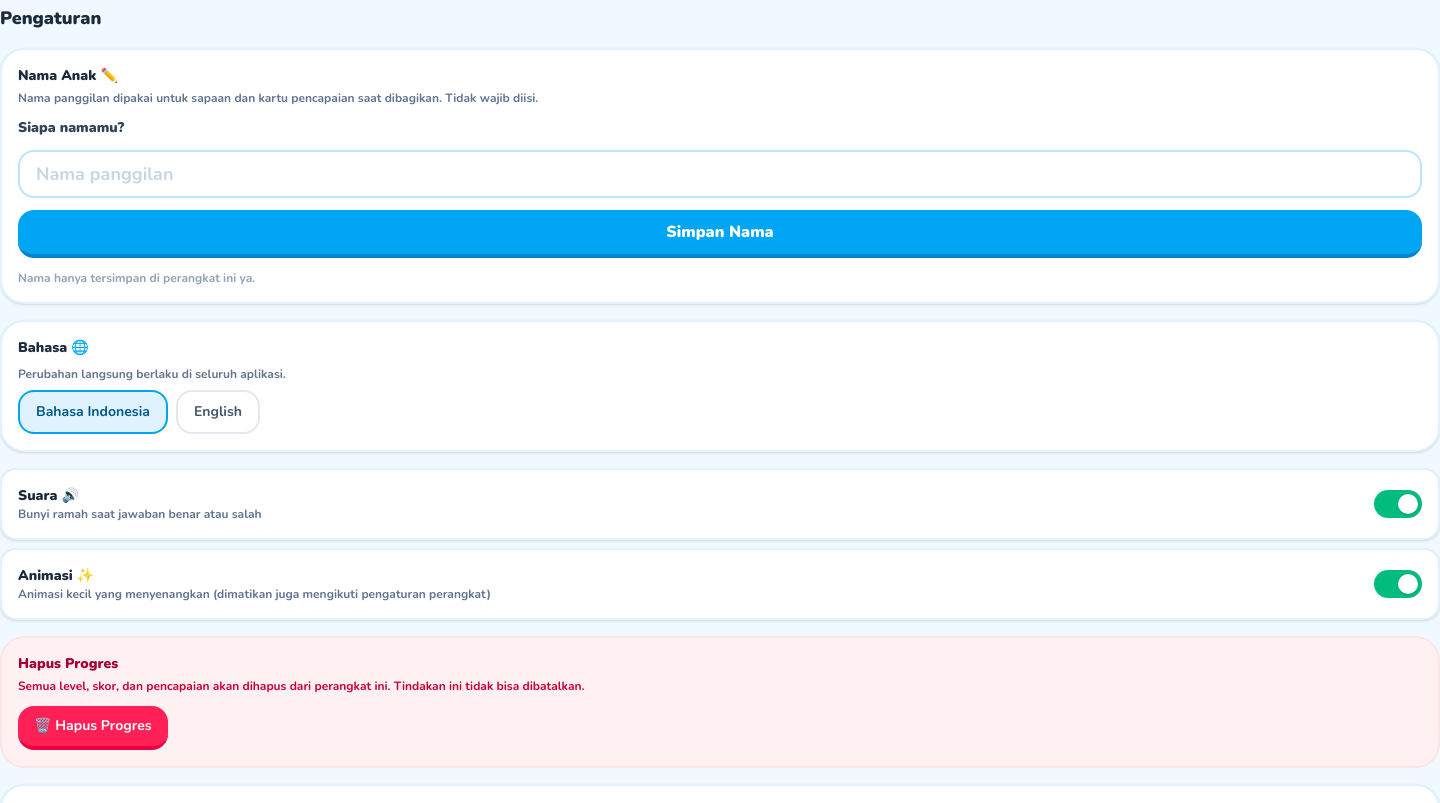
Test: SettingsScreen › menyimpan nama anak lewat form pengaturan
The image size is (1440, 803).
In the field named "Nama panggilan anak": {"x": 720, "y": 174} [18, 150, 1422, 198], type "Sari"
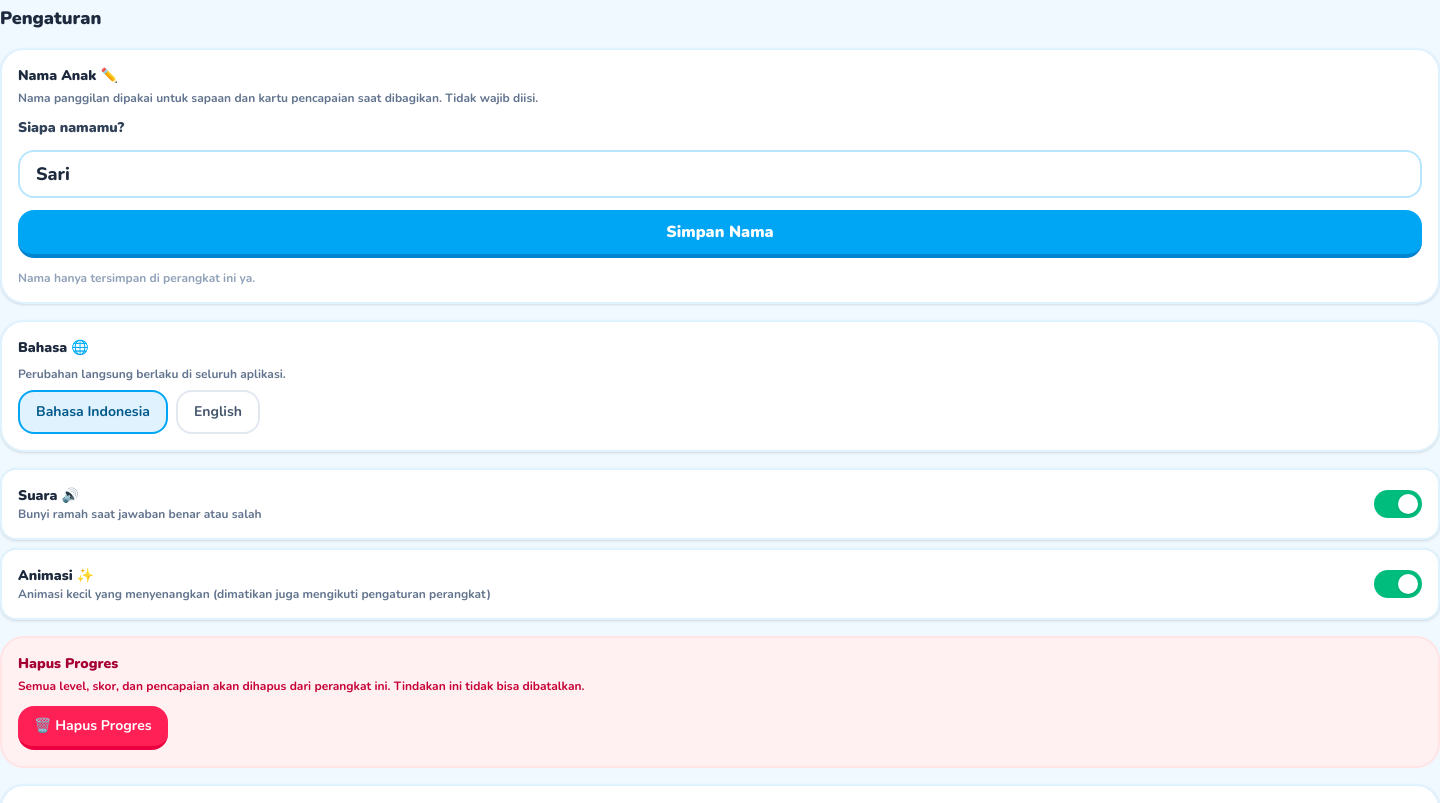
Click the button "Simpan Nama": {"x": 720, "y": 234} [18, 210, 1422, 258]
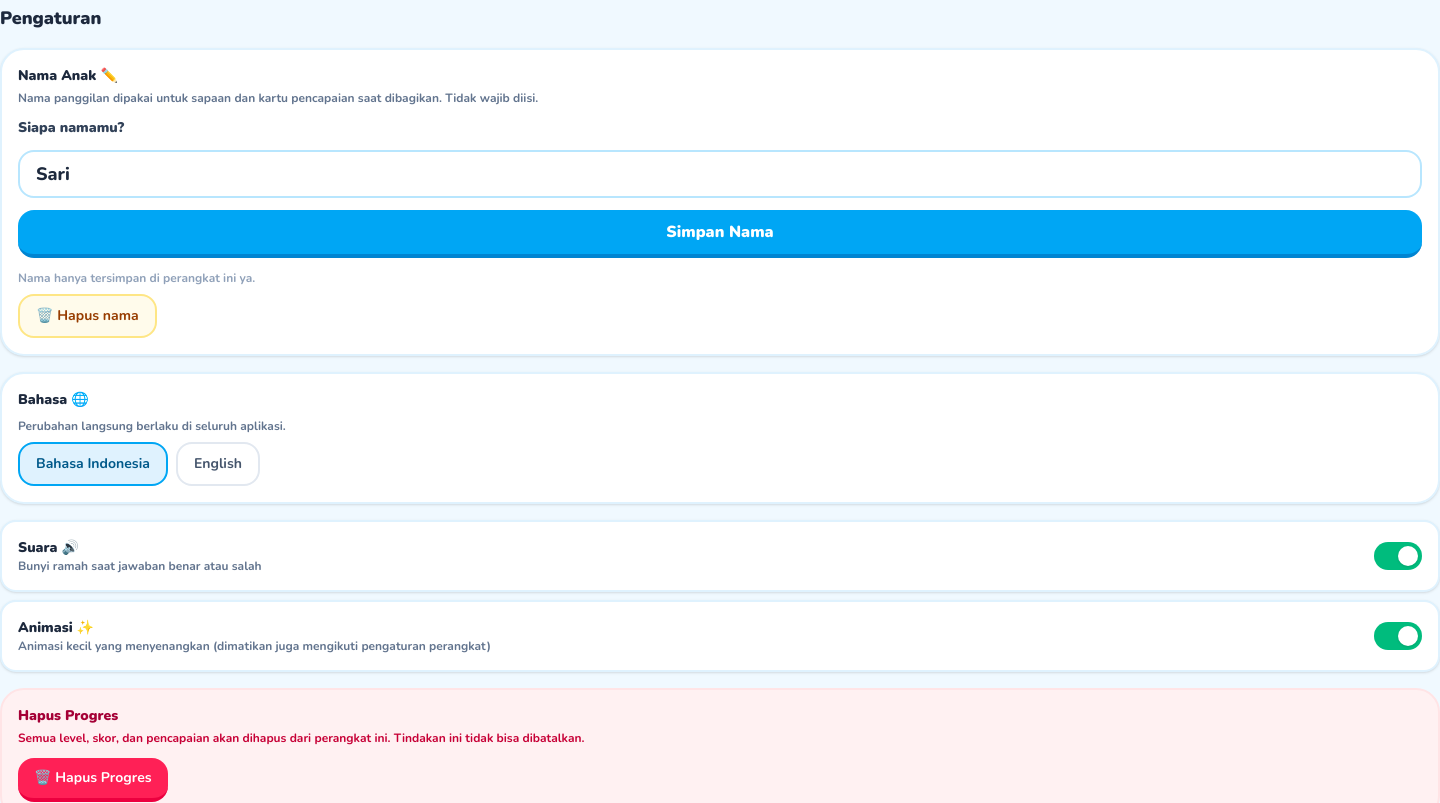
expect the button "🗑️ Hapus nama" is shown: met, box [18, 294, 157, 338]
